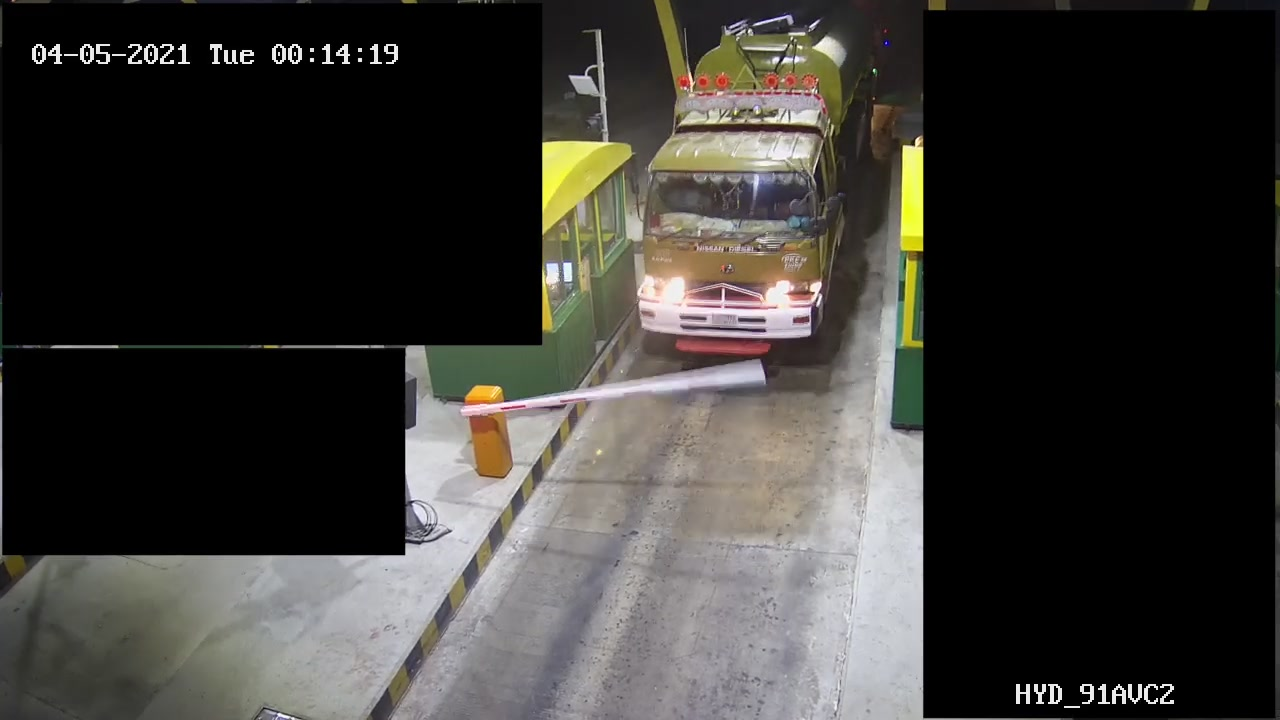F6: (632, 1, 877, 368)
